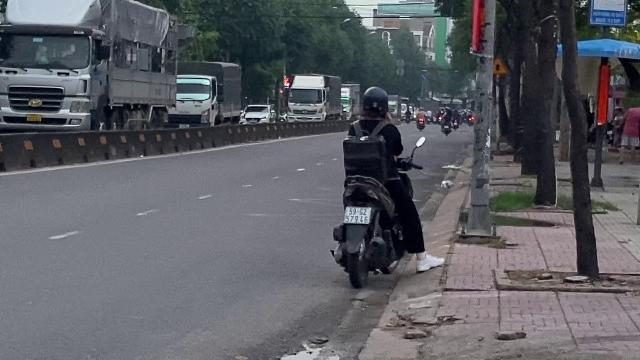helmet: (358, 86, 389, 118)
licenseplate: (343, 206, 369, 222)
motorcyclist: (329, 85, 427, 288)
